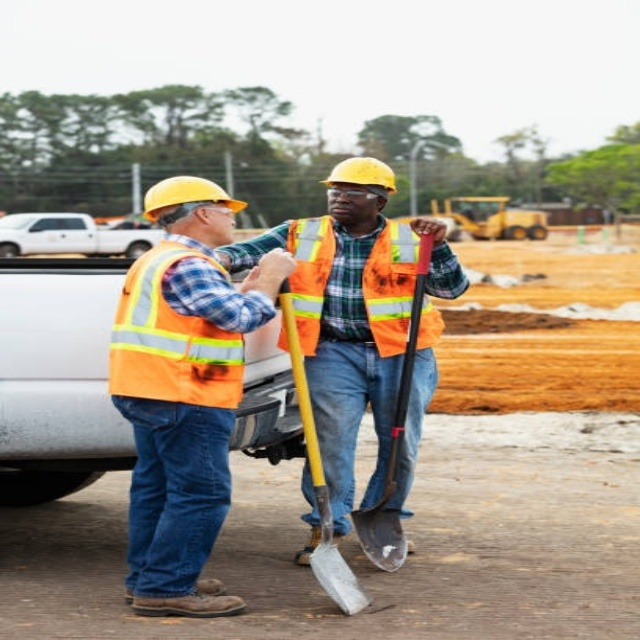Gafas: (327, 188, 384, 200), (196, 207, 235, 219)
Sin_guantes: (256, 245, 300, 278), (408, 217, 448, 241)
Sin_mascara: (326, 202, 353, 219)
